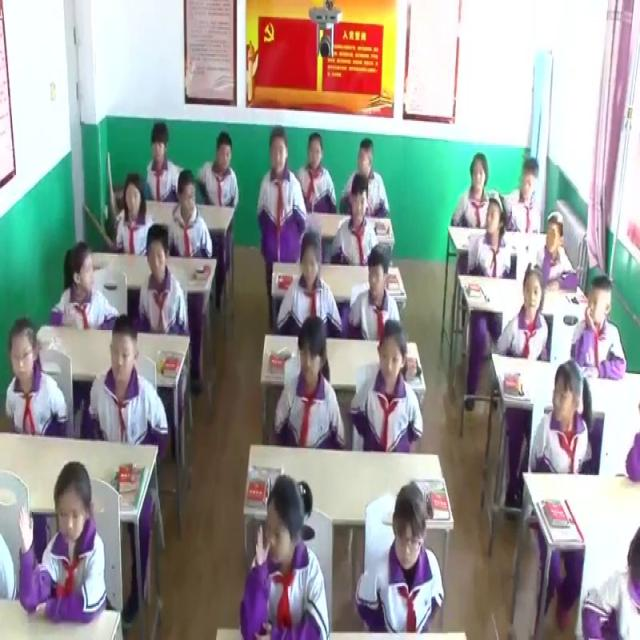distracted: (535, 359, 595, 481), (48, 242, 122, 338), (571, 278, 627, 379), (168, 168, 218, 262), (344, 137, 393, 215), (468, 193, 513, 277), (533, 210, 577, 288), (508, 157, 544, 235)
focused: (354, 479, 450, 640), (84, 314, 168, 449), (277, 310, 348, 458), (348, 324, 418, 454), (0, 327, 67, 441), (276, 230, 339, 344), (260, 125, 309, 264), (139, 226, 186, 336), (333, 174, 383, 276), (344, 246, 399, 336), (498, 265, 546, 361), (451, 147, 496, 232), (201, 133, 243, 214), (115, 176, 158, 255), (146, 127, 184, 200), (300, 131, 334, 211)
raising_hand: (238, 475, 328, 638), (15, 467, 104, 626)
